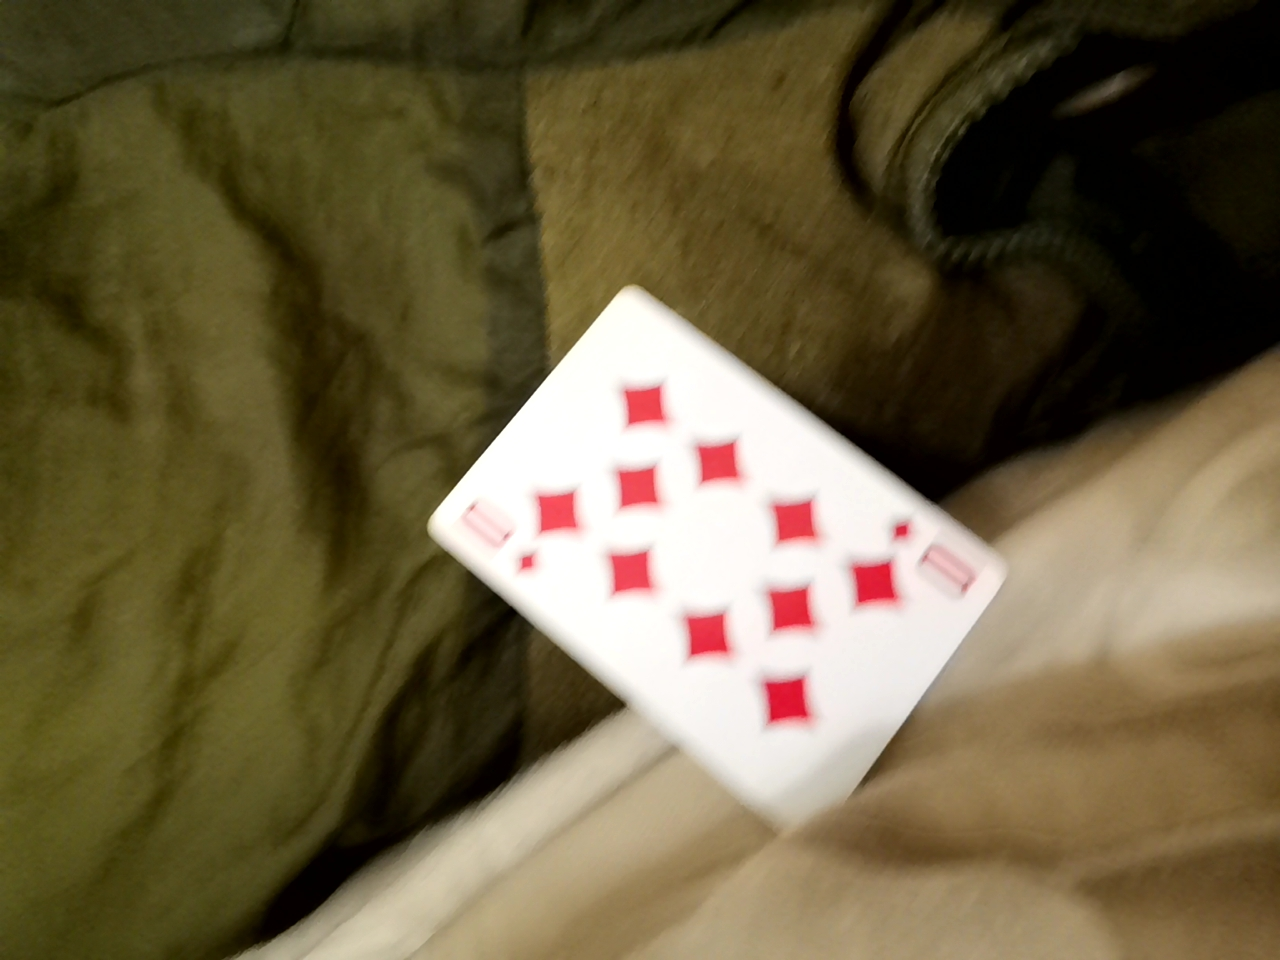fk 10: (451, 222, 1066, 736)
